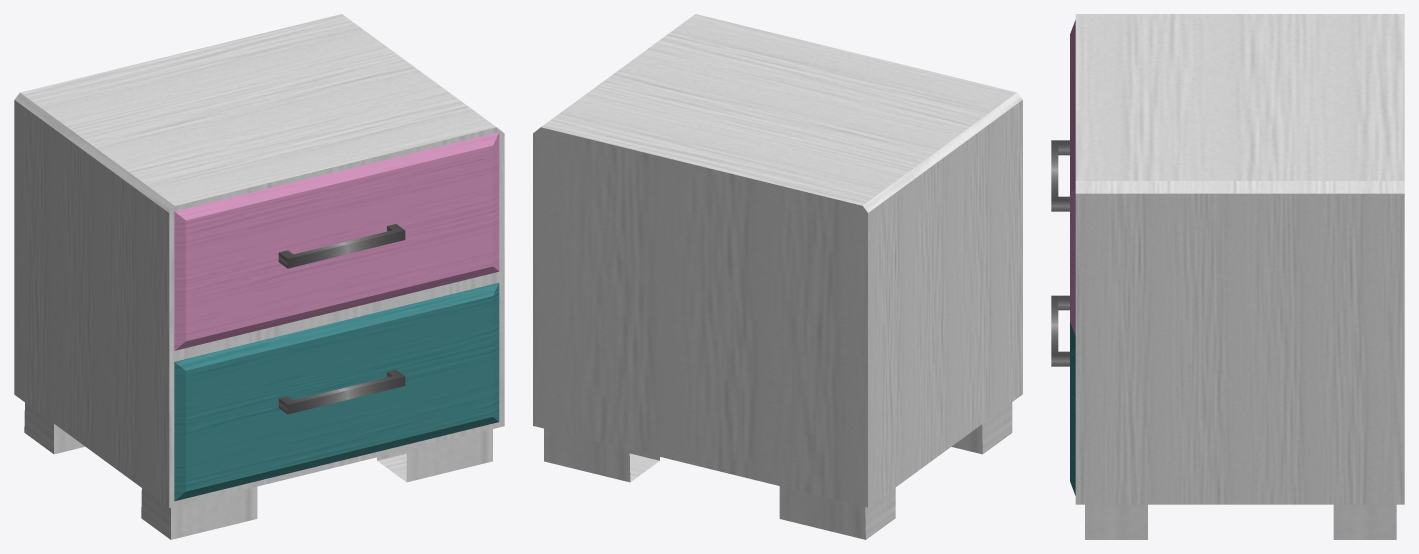
The model's file is Kids_nightstand_D.FBX.
3 renders of one model, left to right at view 1: azimuth 30°, elevation 25°; view 2: azimuth 150°, elevation 25°; view 3: azimuth 270°, elevation 25°, orthographic. The views are drawn at different scales.
Parts seen in each view (by area): view 1: Kids_nightstand; view 2: Kids_nightstand; view 3: Kids_nightstand.
Boxes of the visible parts, box(x1,y1,x2,y2) form: Kids_nightstand: box(14, 14, 504, 539); Kids_nightstand: box(533, 14, 1022, 539); Kids_nightstand: box(1051, 14, 1404, 539).
Bounding box in the file's own units: 140 × 135 × 120.
